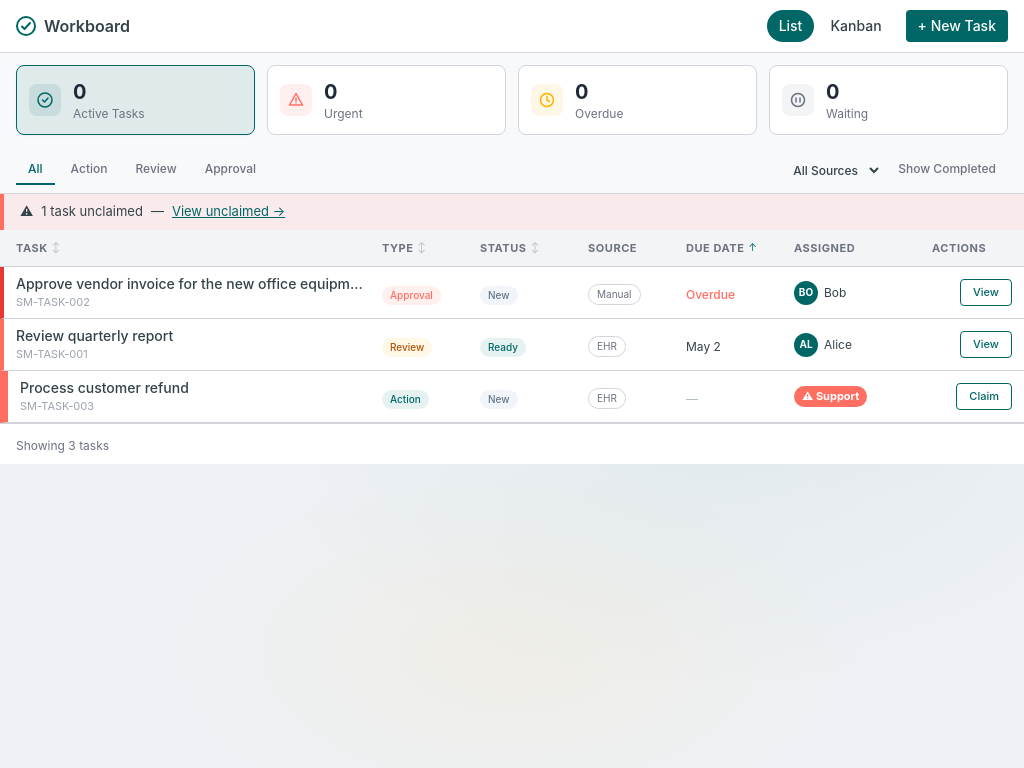
WorkboardMojo › renders filter tabs and filters by task type
Expected: the number of elements with test id "task-row" is 3, [0,267,1023,319]; [0,319,1023,371]; [0,371,1023,423]
Expected: the element with test id "filter-tabs" is shown, [0,147,1023,194]
Click Action tab — only SM-TASK-003 is Action type
Click the button with test id "filter-tab-action" at (89, 170), box [59,155,120,185]
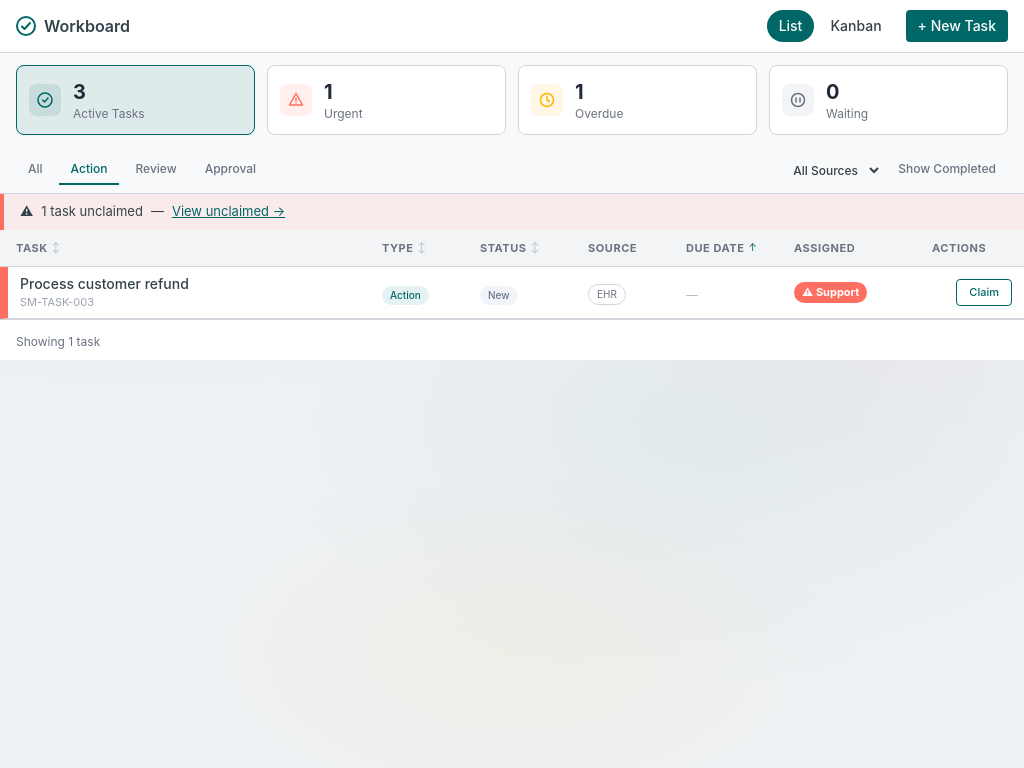
Expected: the text "Process customer refund" is shown, [20,275,189,292]
Expected: the number of elements with test id "task-row" is 1, [0,267,1023,319]
